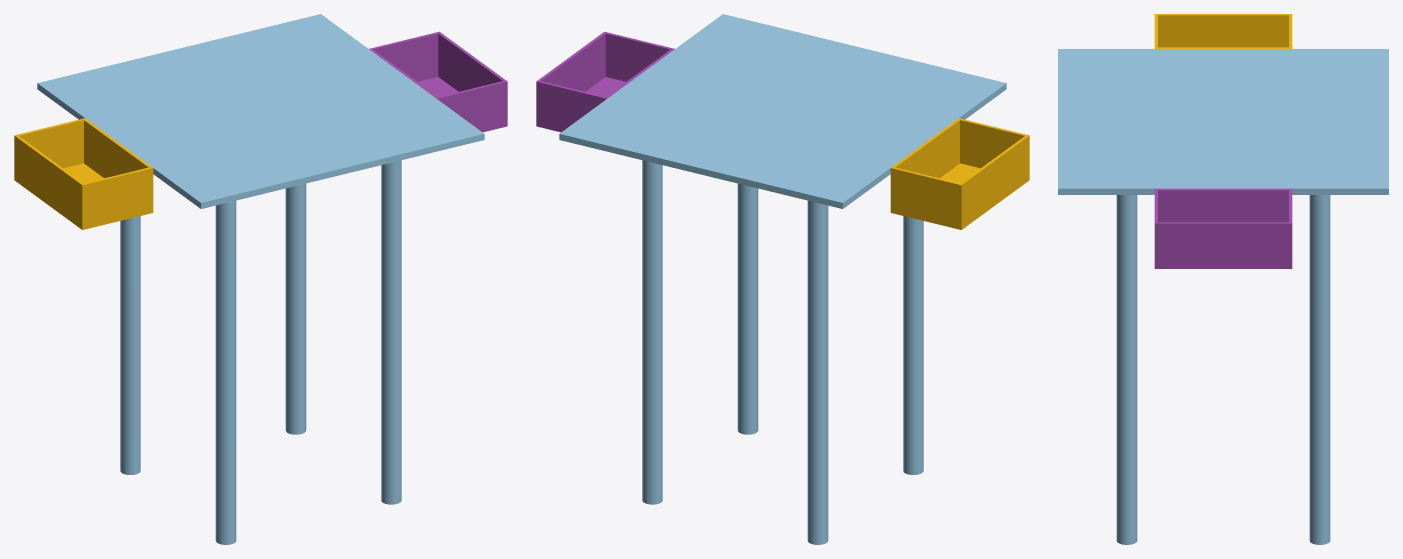
File: Table.dae
3 views of the same model, side by side, from view 1: azimuth 30°, elevation 25°; view 2: azimuth 150°, elevation 25°; view 3: azimuth 270°, elevation 25° (orthographic).
Visible parts, largest first — view 1: 68c48d4c19875da16d072b85 (×3); view 2: 68c48d4c19875da16d072b85 (×3); view 3: 68c48d4c19875da16d072b85 (×3).
Part boxes in pixels (left/top/right/bottom): 68c48d4c19875da16d072b85 (×3): left=14, top=14, right=507, bottom=544; 68c48d4c19875da16d072b85 (×3): left=536, top=14, right=1029, bottom=544; 68c48d4c19875da16d072b85 (×3): left=1058, top=14, right=1388, bottom=544.
Size of the model in its own units: 0.9144 by 0.6096 by 0.7747.
